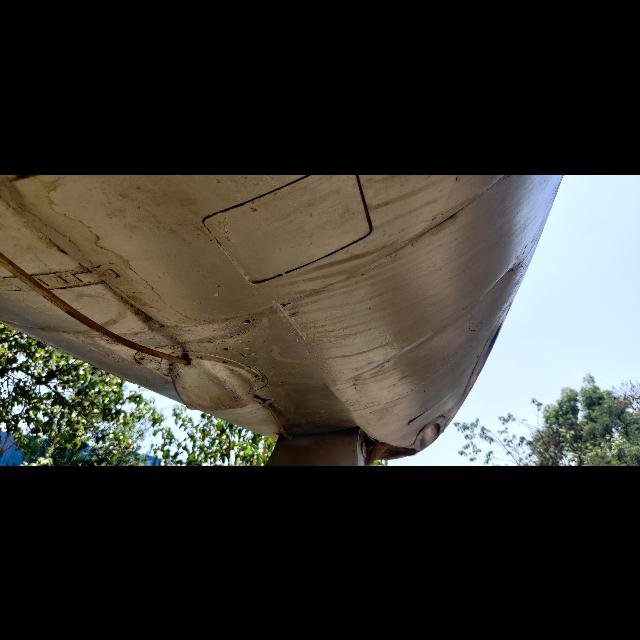dent: (385, 310, 443, 366), (478, 249, 526, 303)
